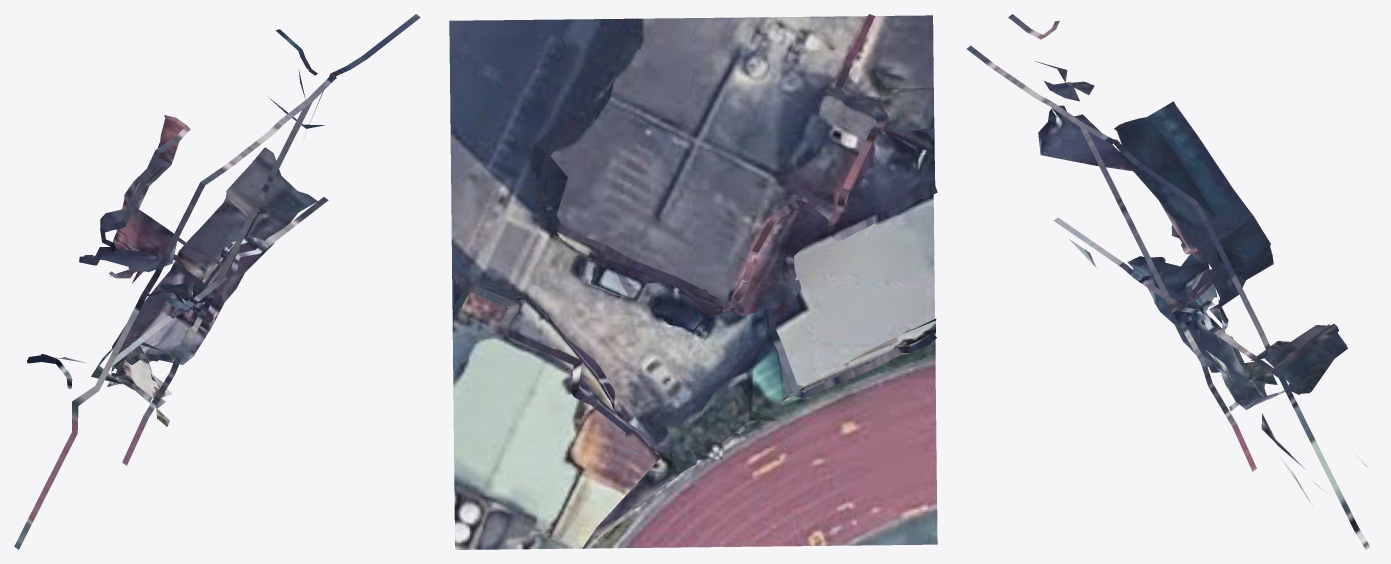
3 renders of one model, left to right at view 1: azimuth 30°, elevation 25°; view 2: azimuth 150°, elevation 25°; view 3: azimuth 270°, elevation 25°, orthographic. The views are drawn at different scales.
Size of the model in its own units: 38.26 by 37.23 by 32.82.
1 material, 1 textured.
